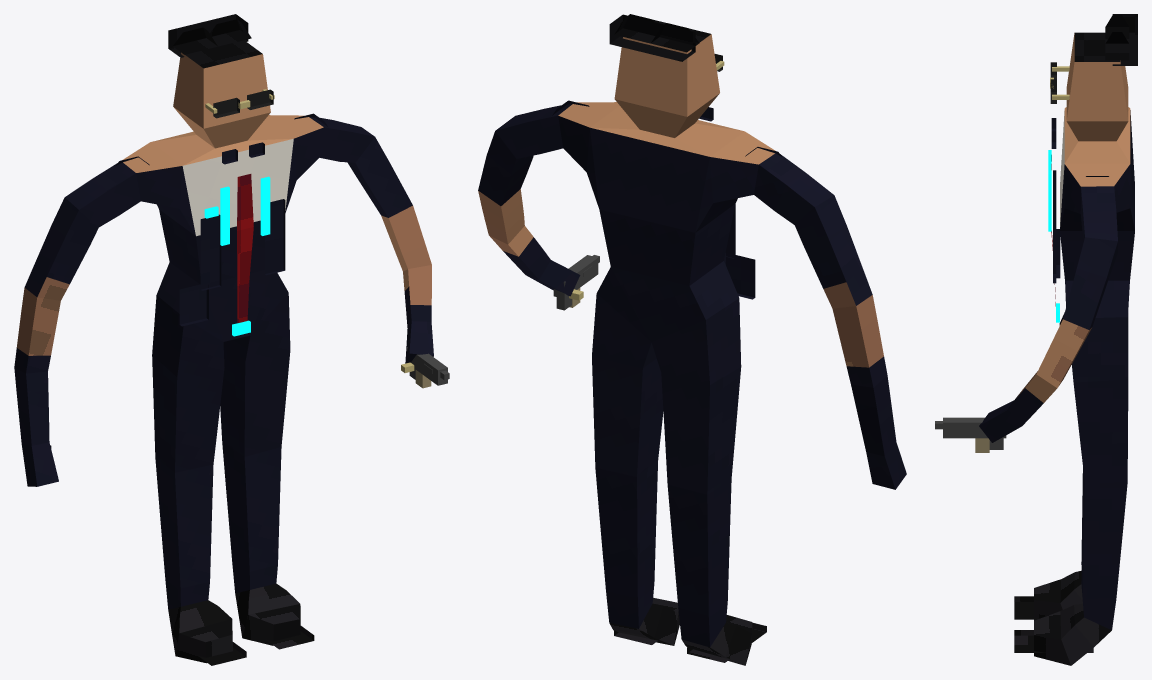
Rendered from oyabaun_player.glb.
3 renders of one model, left to right at view 1: azimuth 30°, elevation 25°; view 2: azimuth 150°, elevation 25°; view 3: azimuth 270°, elevation 25°, orthographic. The views are drawn at different scales.
Visible parts, largest first — view 1: BossCharacter; view 2: BossCharacter; view 3: BossCharacter.
Part boxes in pixels (bbox=[...]): BossCharacter: bbox=[14, 14, 449, 665]; BossCharacter: bbox=[478, 14, 906, 665]; BossCharacter: bbox=[935, 14, 1137, 665].
Size of the model in its own units: 1.15 by 1.69 by 0.512.
Materials: 11 (6 with a texture image).
